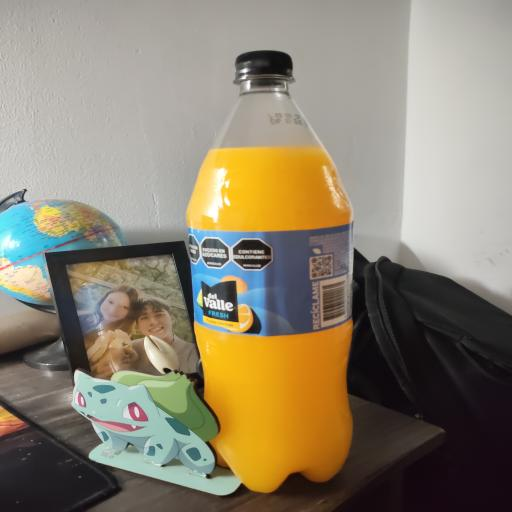Jugo del valle: (187, 52, 352, 491)
